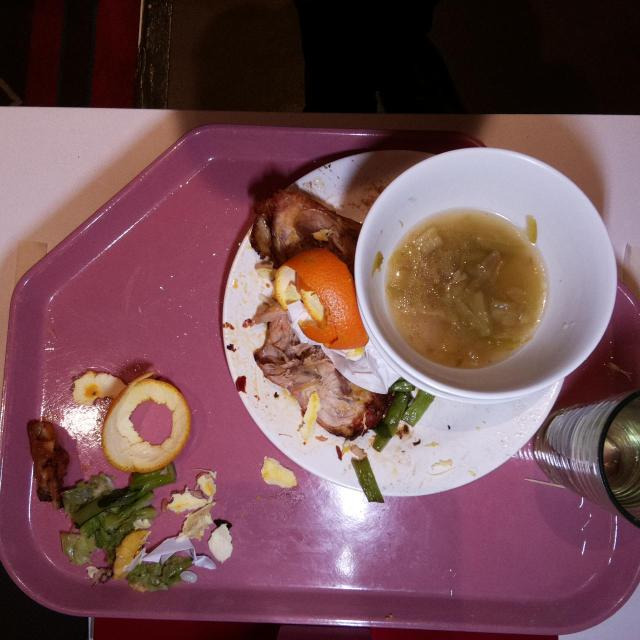Bone: (253, 321, 385, 439)
Meat: (248, 182, 355, 264), (28, 421, 68, 509)
Orange-peel: (101, 371, 190, 475), (272, 248, 354, 340), (70, 369, 127, 407)
Vegetable: (71, 461, 175, 526), (369, 377, 435, 449), (349, 456, 385, 506)
